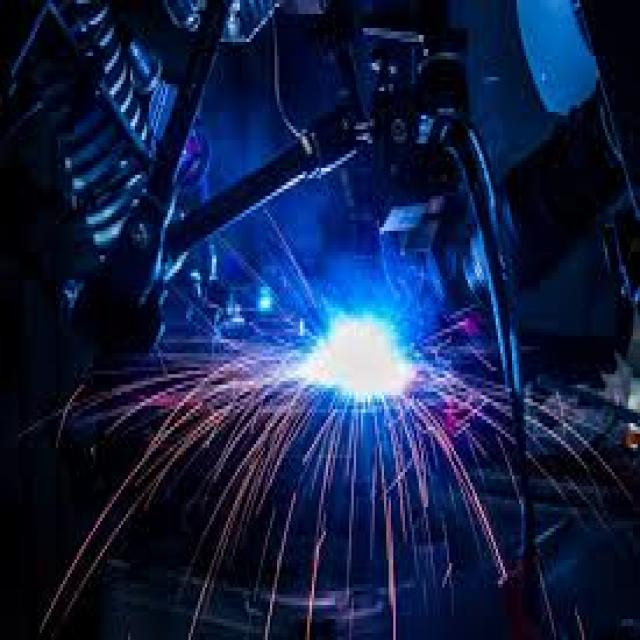welding: (306, 316, 414, 396)
